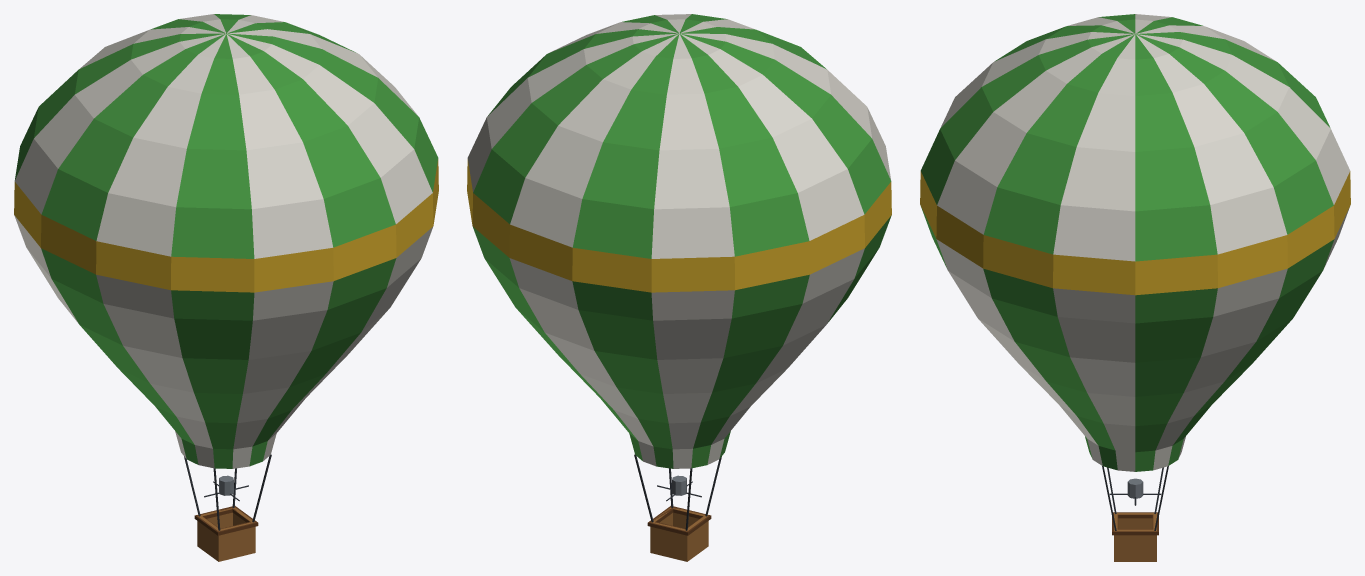
File: hotair-green.glb
3 views of the same model, side by side, from view 1: azimuth 30°, elevation 25°; view 2: azimuth 150°, elevation 25°; view 3: azimuth 270°, elevation 25° (orthographic).
Visible parts, largest first — view 1: hotair-green; view 2: hotair-green; view 3: hotair-green.
Part boxes in pixels (left/top/right/bottom): hotair-green: left=14, top=14, right=438, bottom=561; hotair-green: left=467, top=14, right=891, bottom=561; hotair-green: left=920, top=14, right=1350, bottom=561.
Bounding box in the file's own units: 14 × 18.6 × 14.
